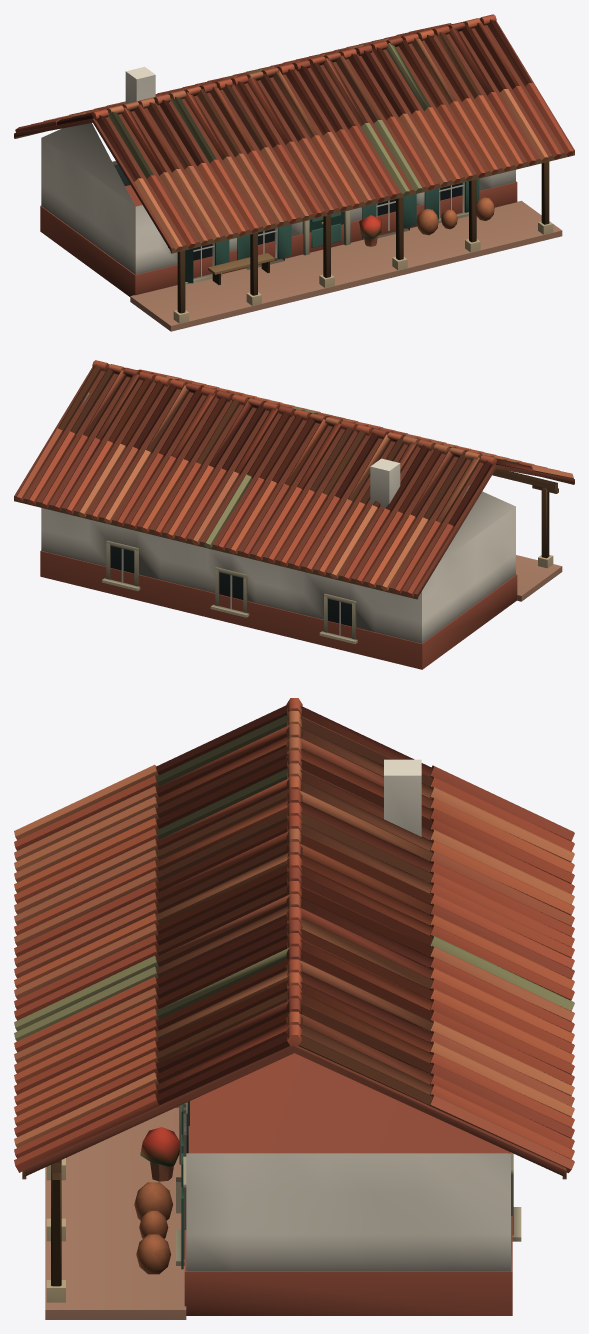
Rendered from adobe_house.glb.
3 views of the same model, one above another, from view 1: azimuth 30°, elevation 25°; view 2: azimuth 150°, elevation 25°; view 3: azimuth 270°, elevation 25° (orthographic). The views are drawn at different scales.
Parts seen in each view (by area): view 1: adobe_house_mesh; view 2: adobe_house_mesh; view 3: adobe_house_mesh.
Boxes of the visible parts, x1,y1,x2,y2 form: adobe_house_mesh: [14, 14, 574, 331]; adobe_house_mesh: [14, 360, 574, 669]; adobe_house_mesh: [14, 698, 574, 1319].
Bounding box in the file's own units: 14.84 × 5.88 × 10.36.
